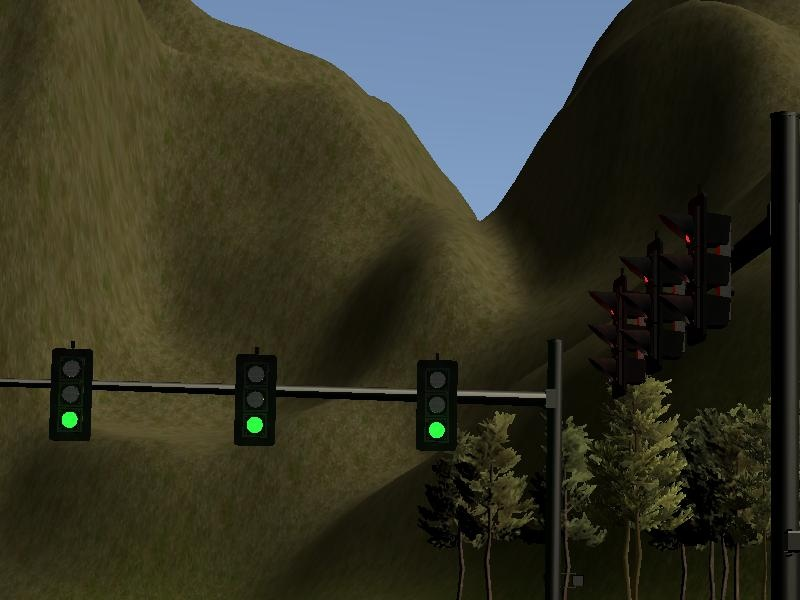GREEN: (416, 362, 456, 453), (234, 354, 274, 445), (51, 349, 91, 440)
